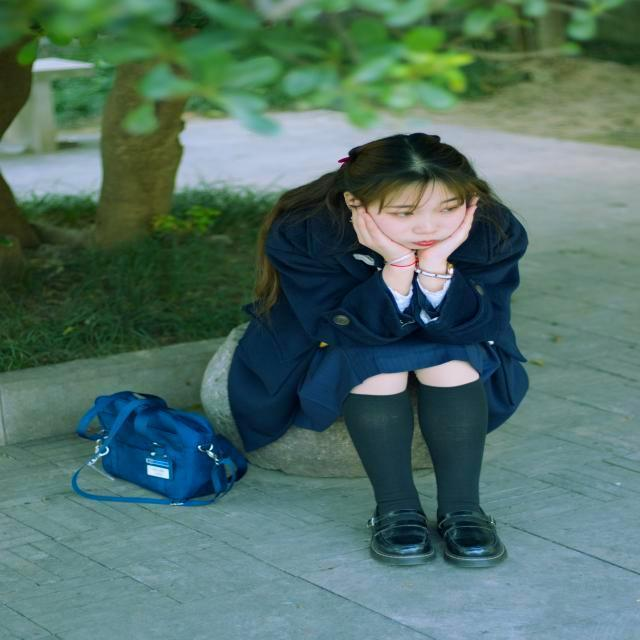Looking away: (372, 183, 468, 250)
